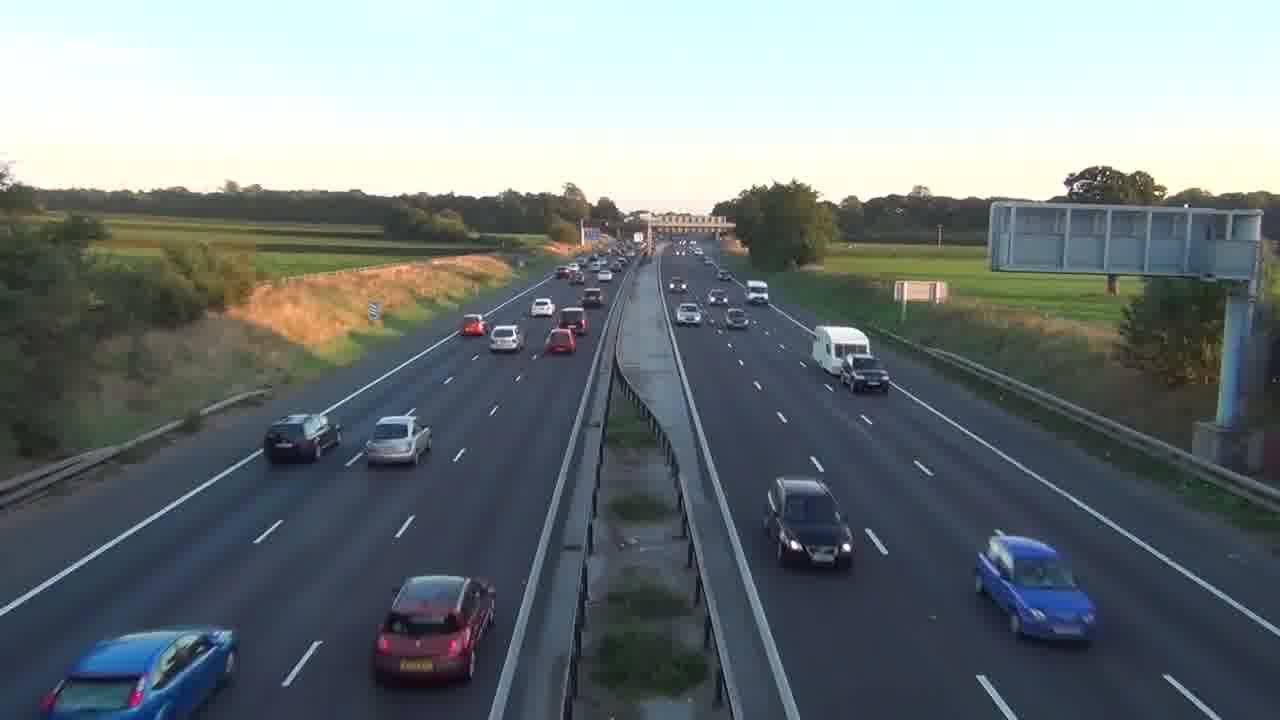car: (37, 624, 240, 719), (371, 573, 498, 687), (973, 530, 1099, 644), (763, 476, 855, 570), (262, 411, 341, 463), (841, 354, 890, 394), (488, 324, 522, 353), (675, 302, 704, 327)
truck: (811, 324, 872, 378)
